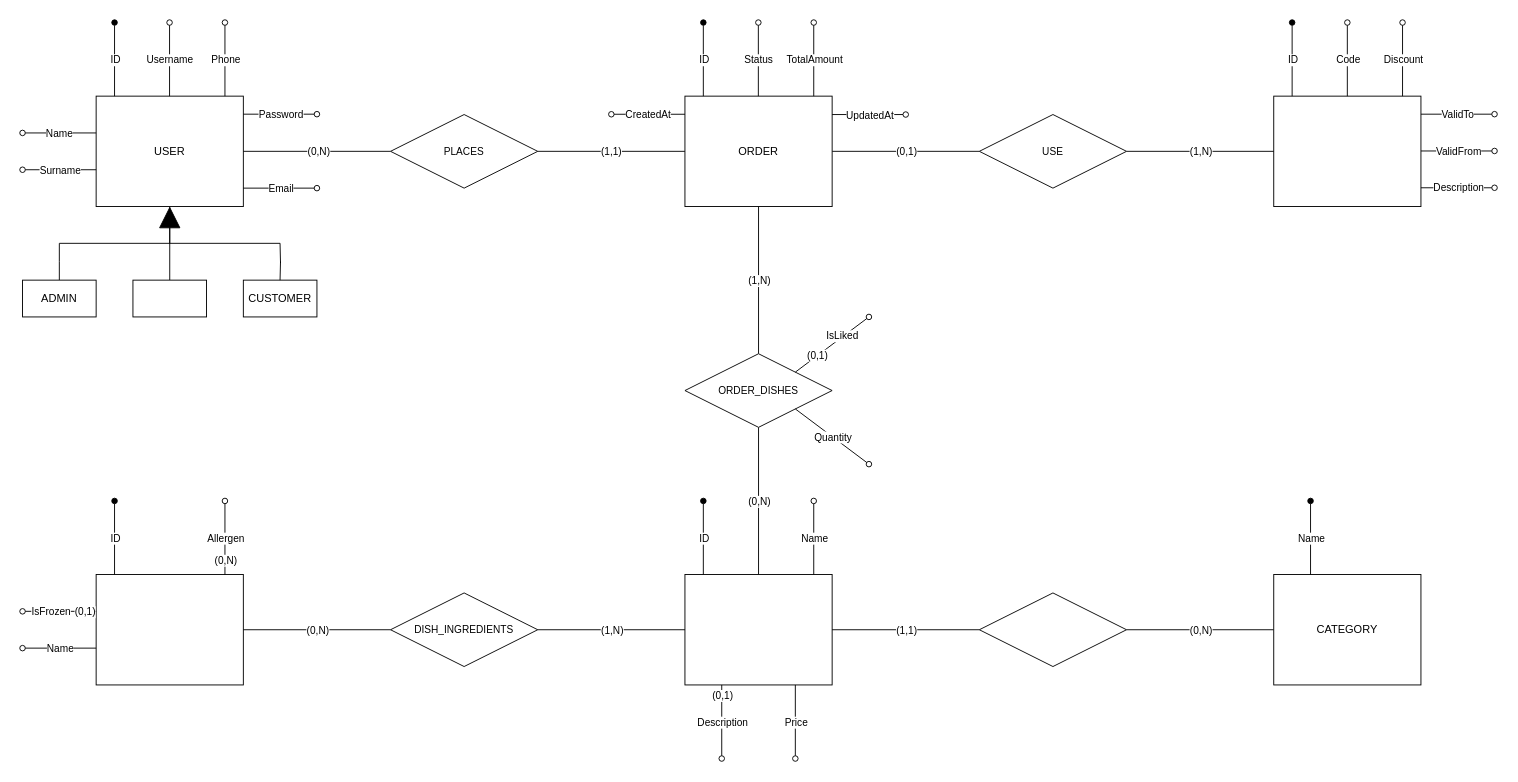
Some shapes in this 1518 by 782 pixel diagram are drawn without their labels. The centre of each missing label's shape, as x and y in pixels:
DISH: point (758, 629)
DISH_CATEGORIES: point (1052, 629)
INGREDIENT: point (169, 629)
PROMOTION: point (1347, 151)
STAFF: point (169, 298)
